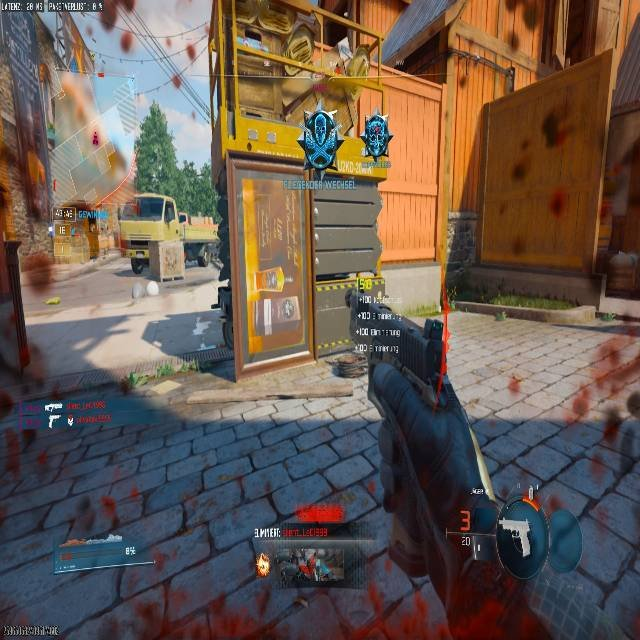player: (347, 286, 392, 328)
